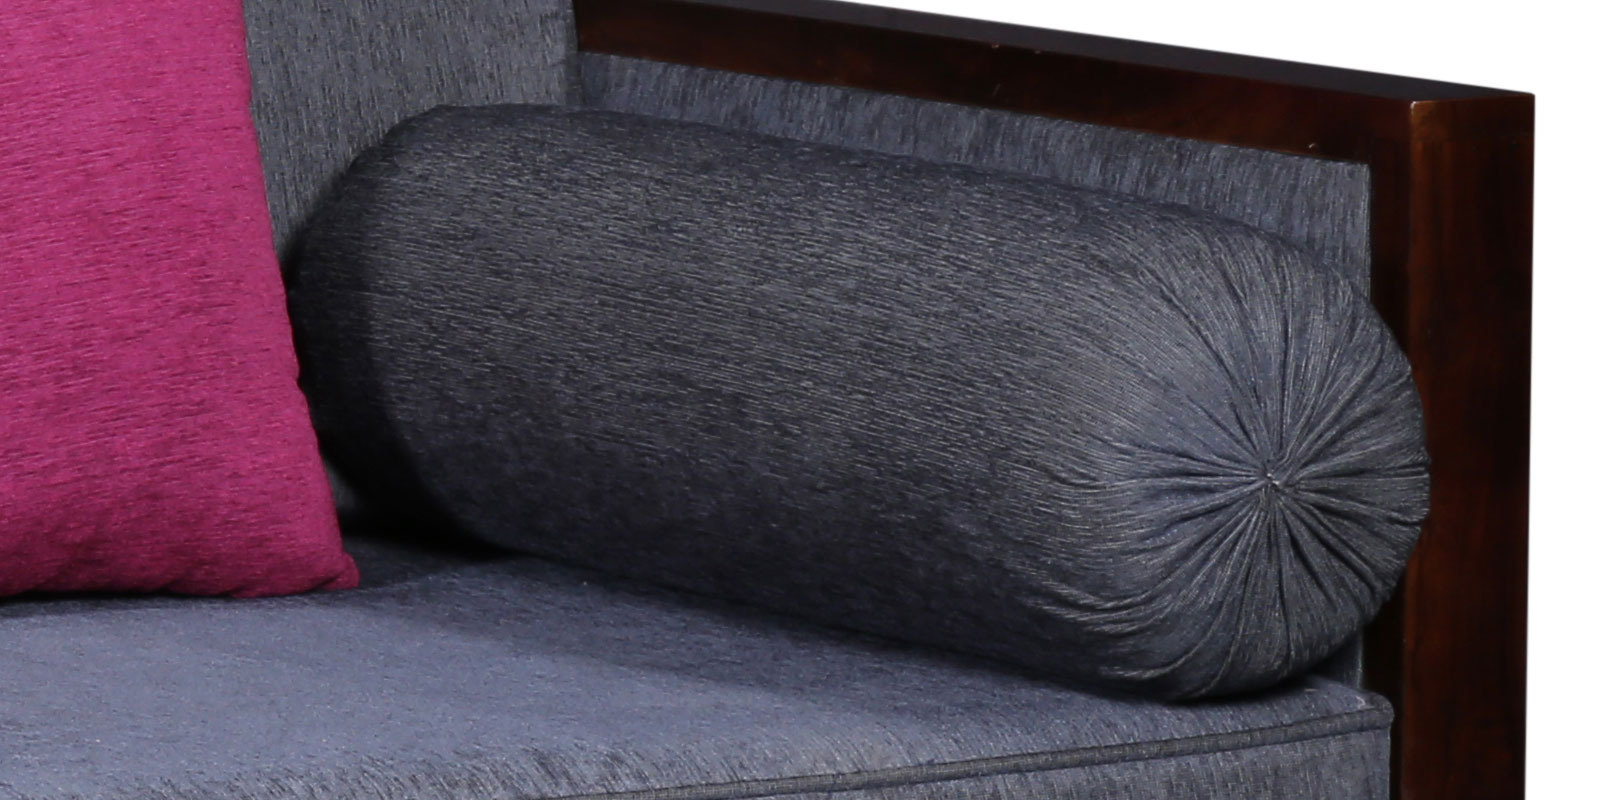Dillon Three Seater Sofa in Passion Mahogany Finish by Woodsworth: (1, 6, 1581, 792)
